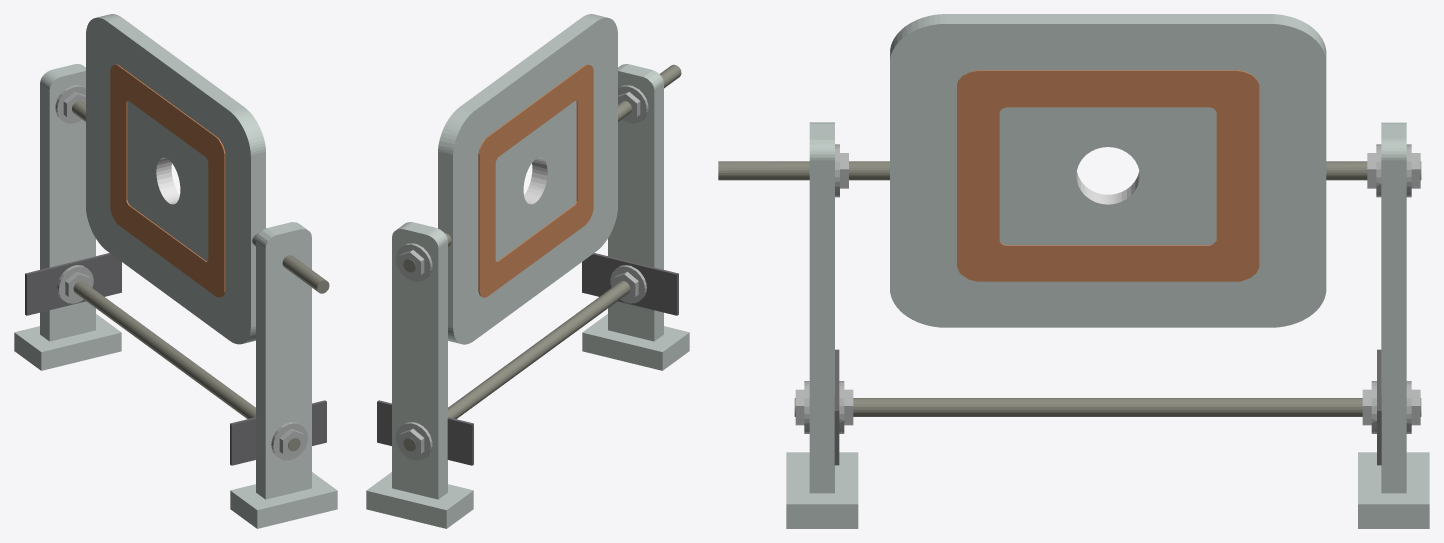
File: coil.glb
The picture shows the model from 3 angles, left to right: view 1: azimuth 30°, elevation 25°; view 2: azimuth 150°, elevation 25°; view 3: azimuth 270°, elevation 25°; orthographic projection. The views are drawn at different scales.
Parts seen in each view (by area): view 1: cu, leg_1_1; view 2: cu, leg_1_1; view 3: cu, leg_1_1.
Boxes of the visible parts, x1,y1,x2,y2 form: cu: (86, 14, 265, 344); leg_1_1: (14, 64, 337, 528); cu: (438, 14, 617, 344); leg_1_1: (366, 64, 689, 528); cu: (890, 14, 1326, 327); leg_1_1: (718, 122, 1429, 528).
Bounding box in the file's own units: 12.79 × 46.98 × 62.59.
